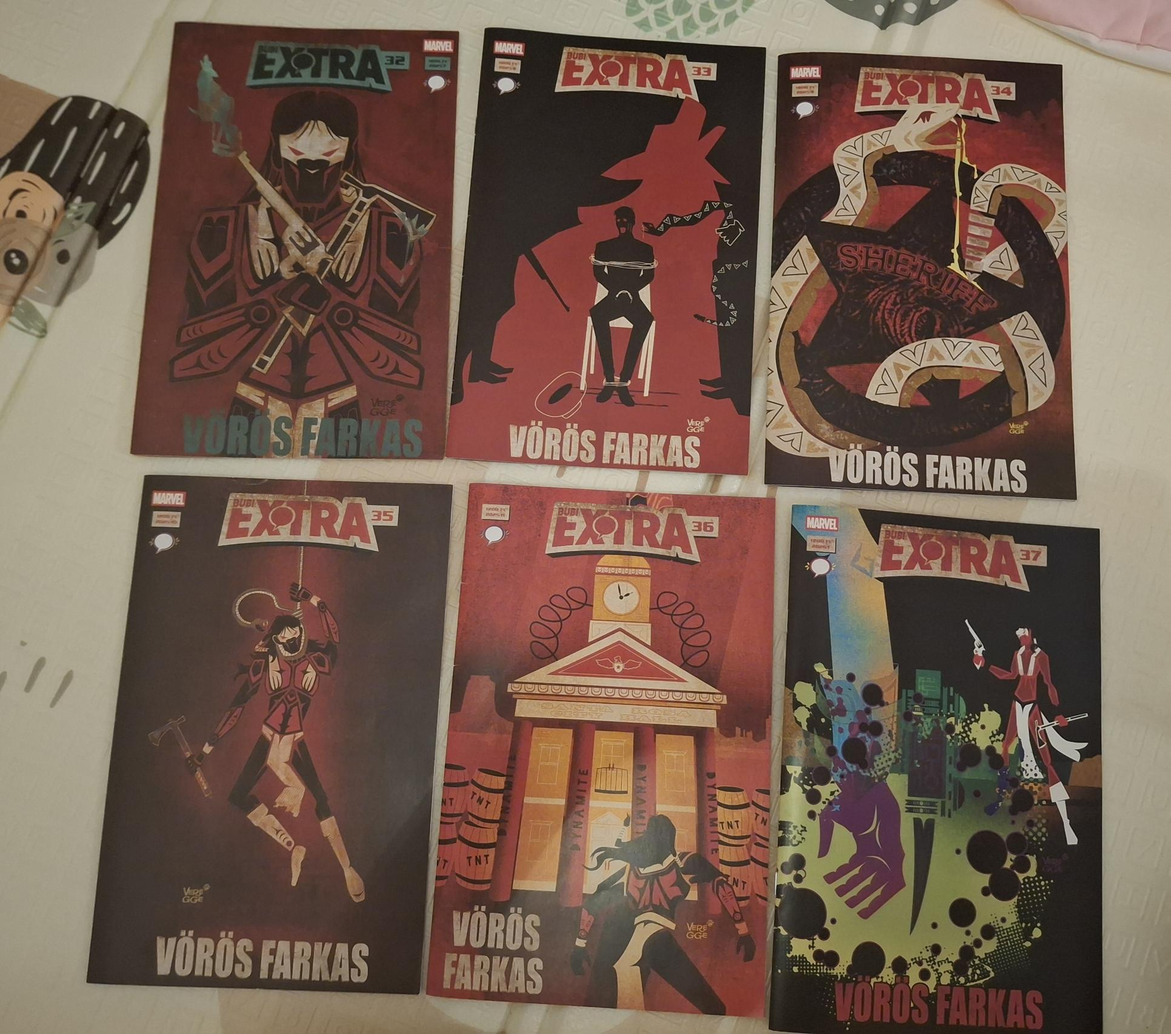comic: (88, 457, 465, 1011), (426, 481, 792, 1015), (770, 505, 1122, 1034), (446, 26, 775, 478), (133, 18, 463, 467), (762, 52, 1091, 498)
